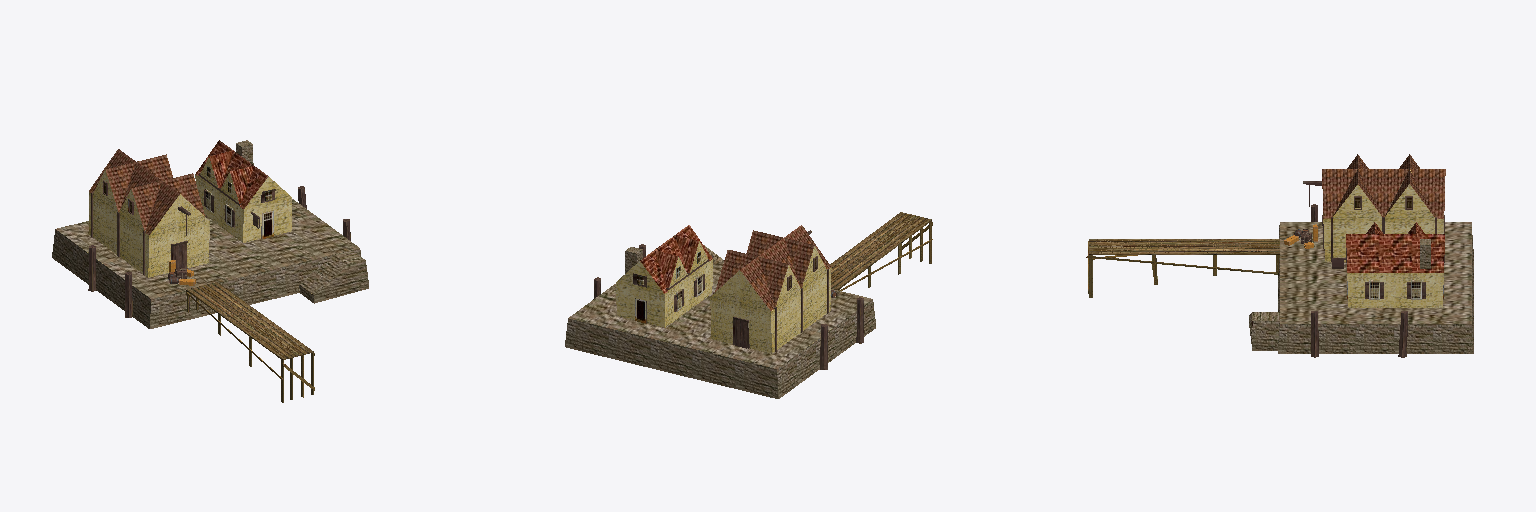
The picture shows the model from 3 angles: view 1: azimuth 30°, elevation 25°; view 2: azimuth 150°, elevation 25°; view 3: azimuth 270°, elevation 25°; orthographic projection.
Visible parts, largest first — view 1: Mesh_Mesh.030_Mesh.044_chsl_15IndexedFaceSet.001_chsl_15IndexedF; view 2: Mesh_Mesh.030_Mesh.044_chsl_15IndexedFaceSet.001_chsl_15IndexedF; view 3: Mesh_Mesh.030_Mesh.044_chsl_15IndexedFaceSet.001_chsl_15IndexedF.
Boxes of the visible parts, x1,y1,x2,y2 form: Mesh_Mesh.030_Mesh.044_chsl_15IndexedFaceSet.001_chsl_15IndexedF: [52, 140, 368, 402]; Mesh_Mesh.030_Mesh.044_chsl_15IndexedFaceSet.001_chsl_15IndexedF: [565, 212, 932, 398]; Mesh_Mesh.030_Mesh.044_chsl_15IndexedFaceSet.001_chsl_15IndexedF: [1086, 154, 1473, 357].
Size of the model in its own units: 1.59 by 0.8006 by 2.33.
Materials: 1 (1 with a texture image).